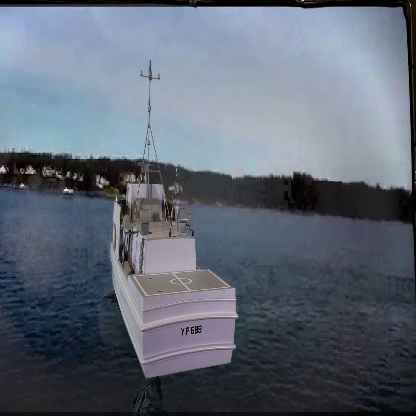YP689: (108, 64, 240, 382)
